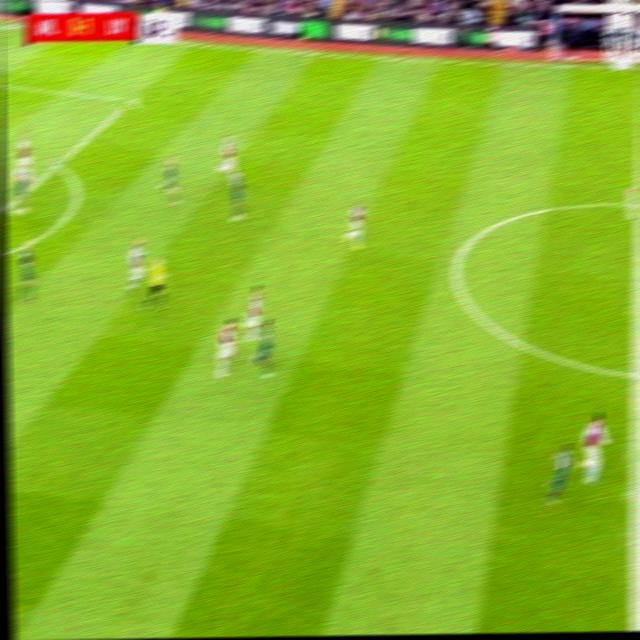bigarea_top_inner: (122, 89, 140, 110)
corner: (0, 16, 20, 32)
halfcircle_bottom: (618, 351, 640, 394)
halfcircle_top: (624, 187, 640, 218)
midline_top_intersection: (631, 57, 640, 81)
top_arc_area_intersection: (48, 154, 65, 173)
